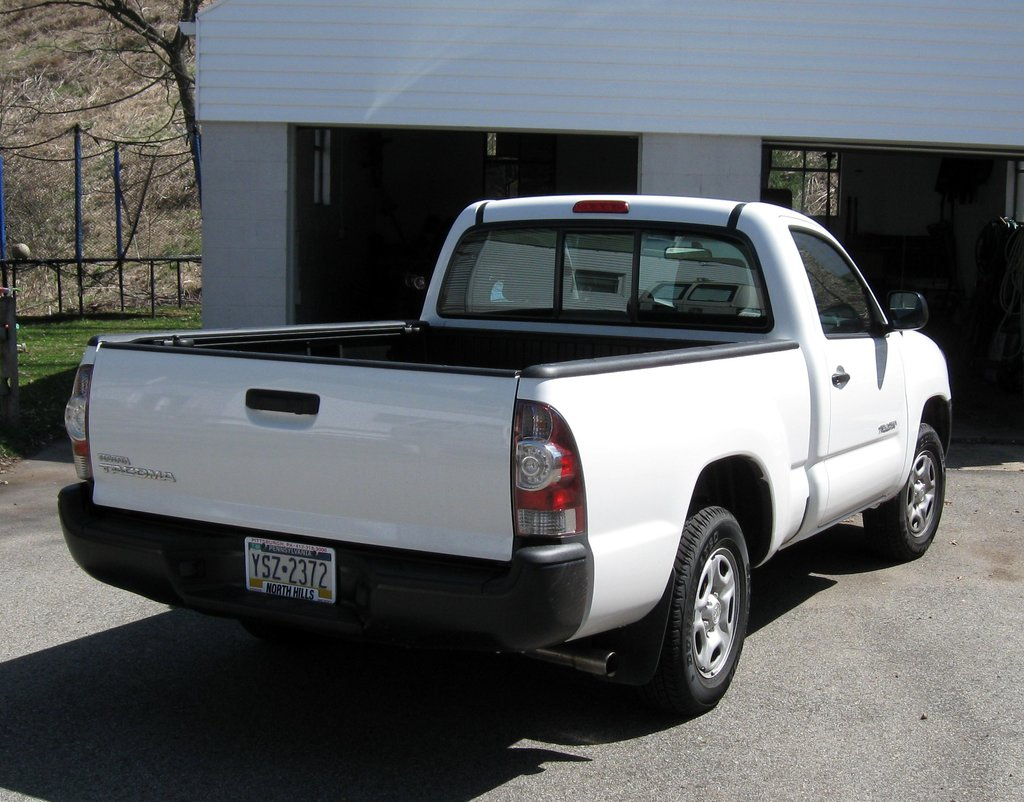car: (45, 182, 962, 749)
